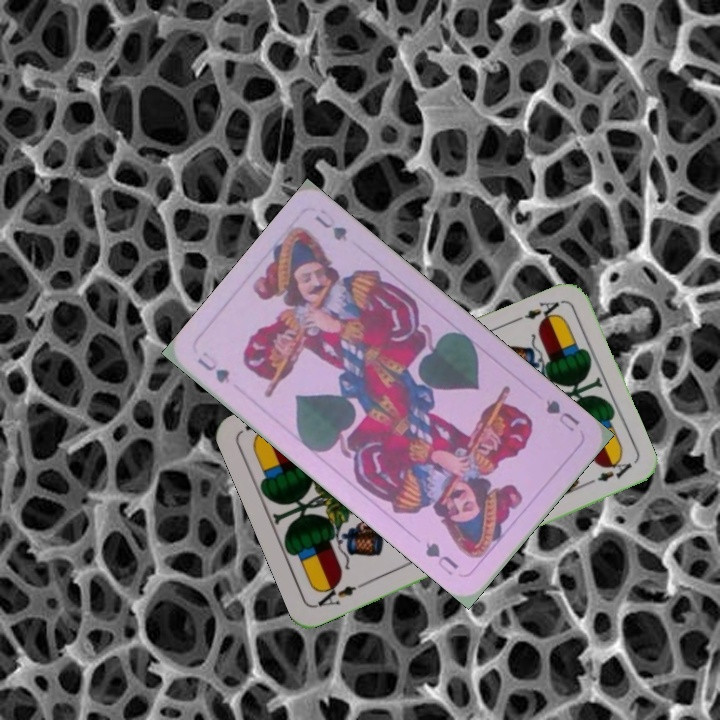EA: (312, 578, 368, 610), (507, 297, 562, 326)
GU: (541, 395, 582, 435), (193, 347, 233, 386)
